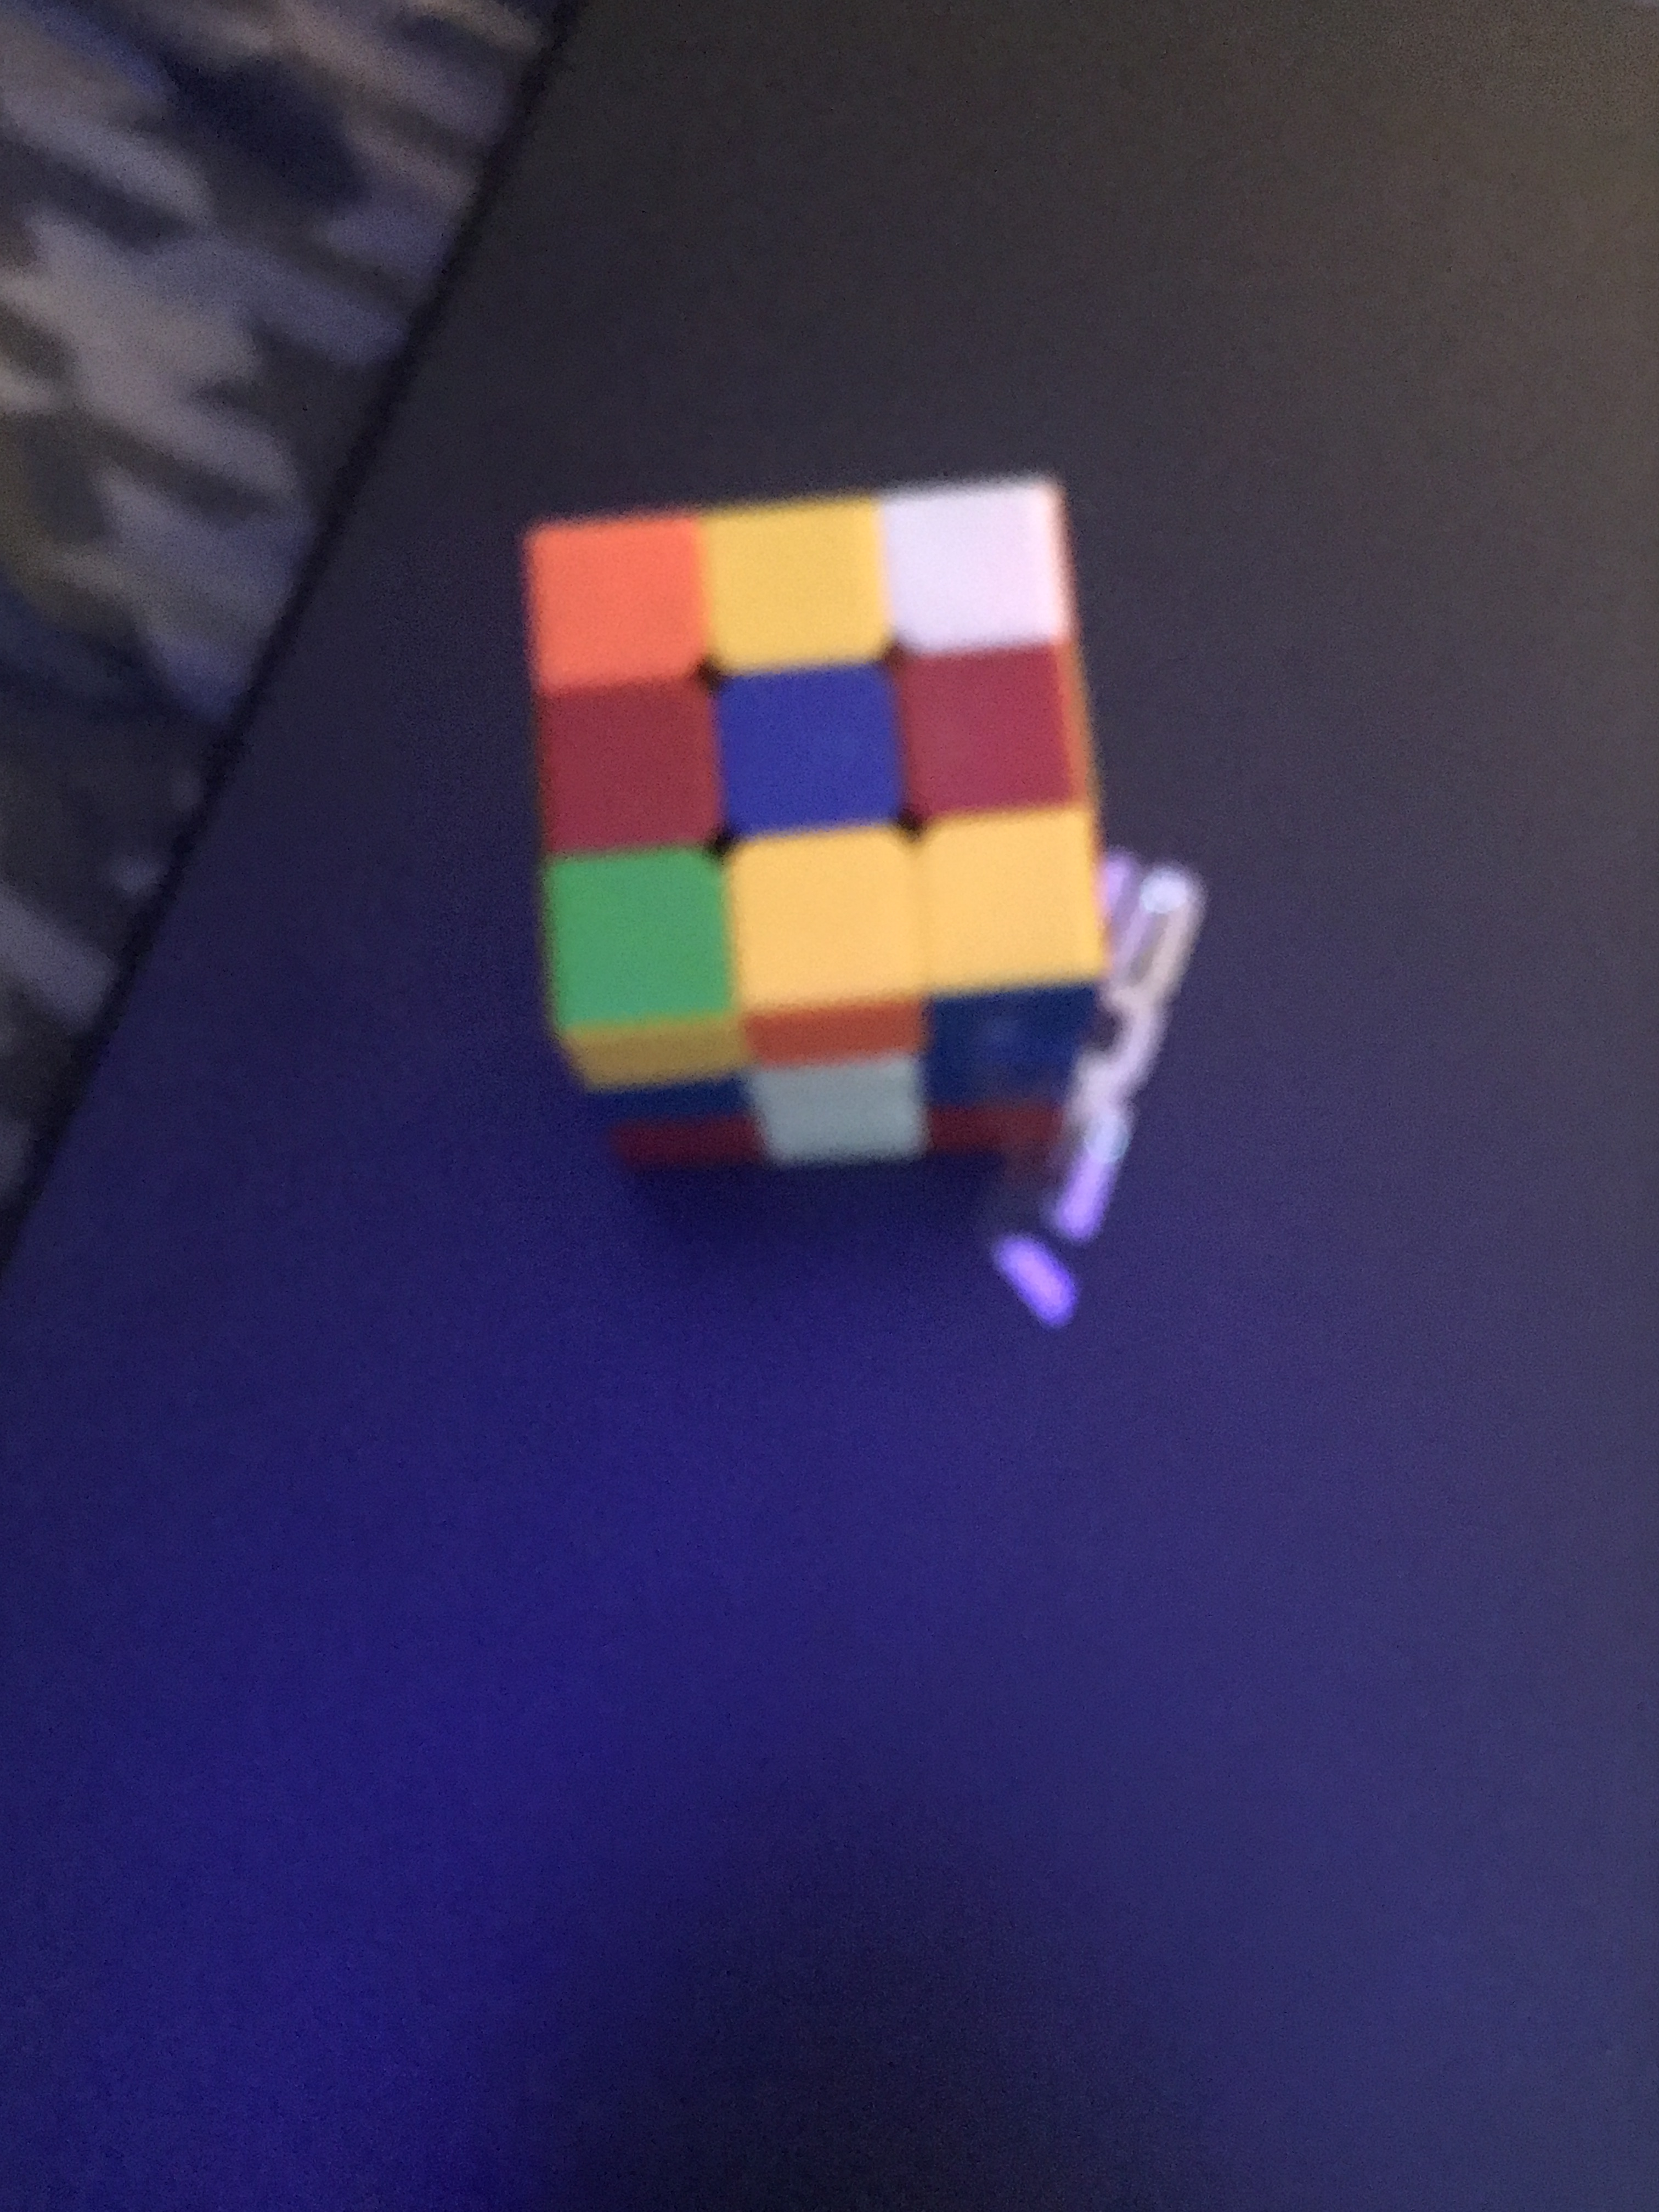rubiks: (512, 467, 1108, 1198)
